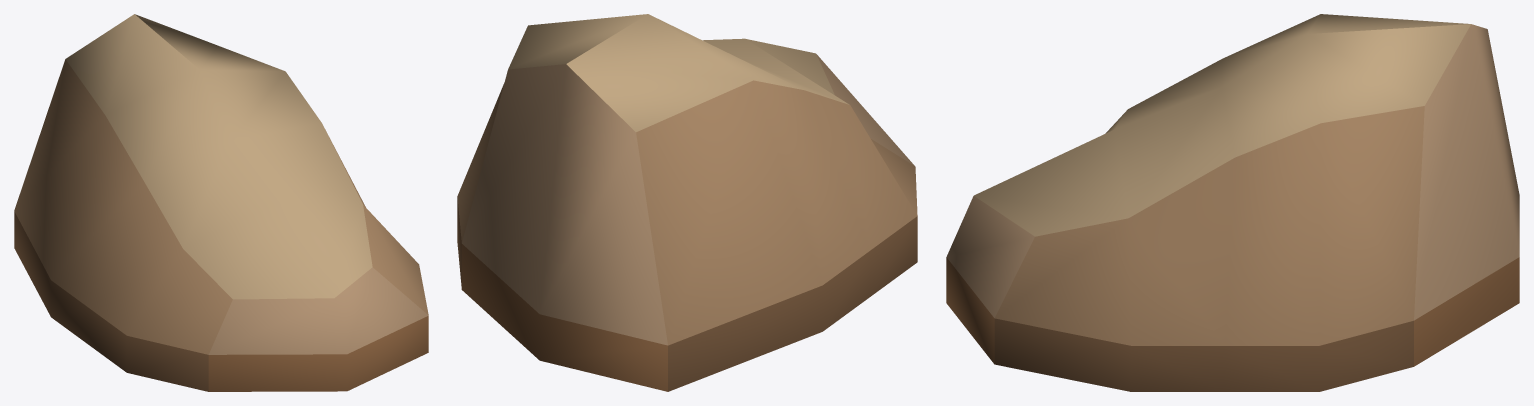
File: consumables-bakedgoods-breadcrumb_v4.glb
The picture shows the model from 3 angles, left to right: view 1: azimuth 30°, elevation 25°; view 2: azimuth 150°, elevation 25°; view 3: azimuth 270°, elevation 25°; orthographic projection. The views are drawn at different scales.
Visible parts, largest first — view 1: BreadCrumb_v4; view 2: BreadCrumb_v4; view 3: BreadCrumb_v4.
Boxes of the visible parts, x1,y1,x2,y2 form: BreadCrumb_v4: (14,14,428,391); BreadCrumb_v4: (457,14,917,391); BreadCrumb_v4: (946,14,1519,391).
Size of the model in its own units: 0.00478 by 0.0035 by 0.00653.
